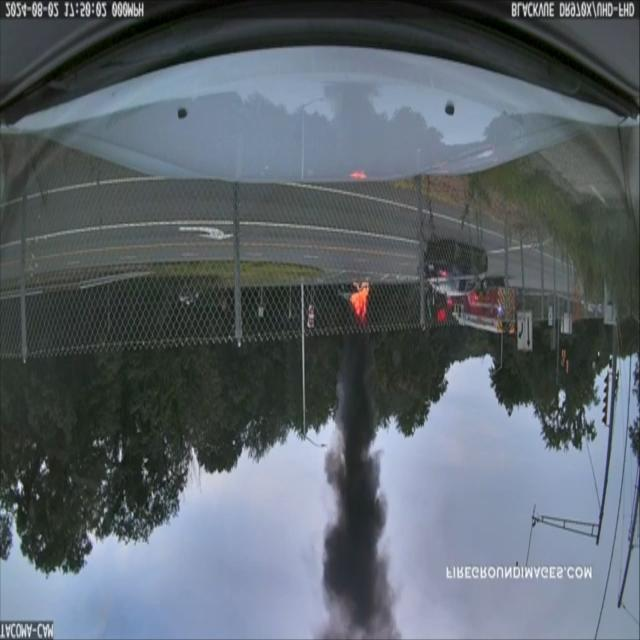fire: (340, 280, 375, 322)
